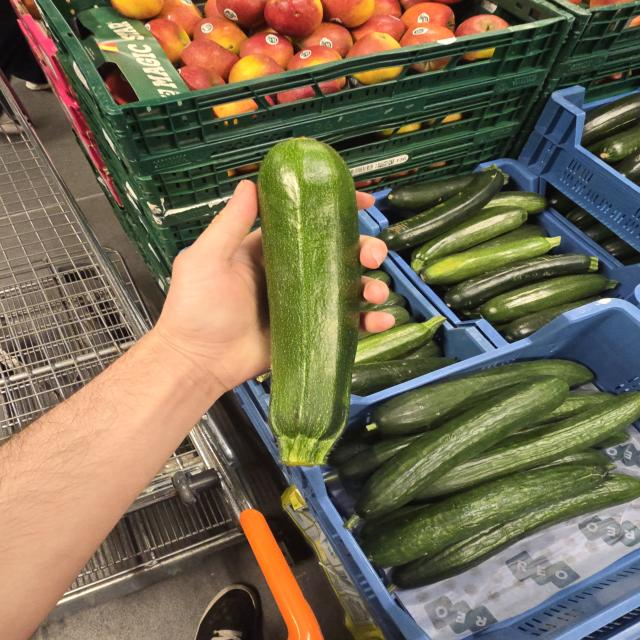Apple: (264, 0, 323, 38), (193, 17, 247, 55), (228, 53, 284, 83)
Courgette: (257, 137, 363, 466), (380, 166, 506, 251), (444, 253, 599, 311), (416, 225, 560, 285), (478, 274, 619, 324)
